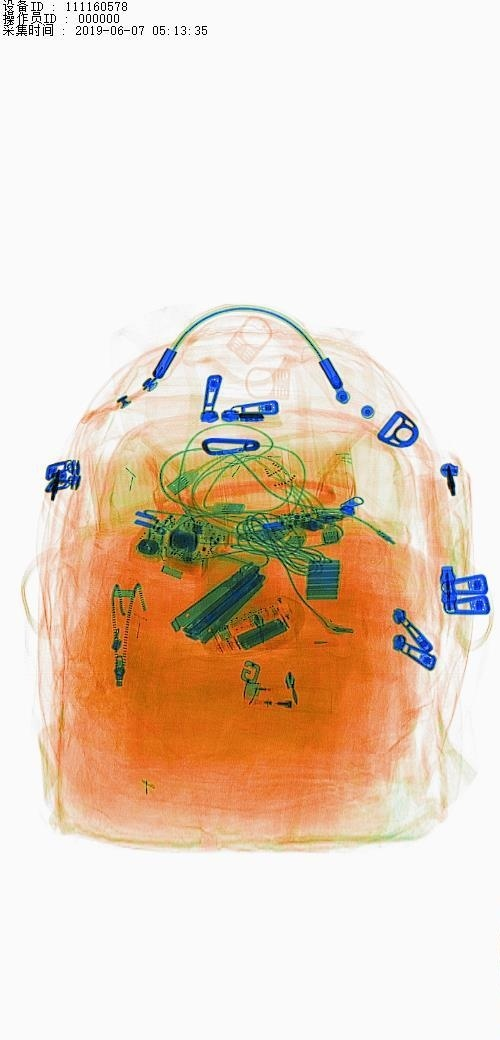NonmetallicFire: (217, 674, 358, 725)
